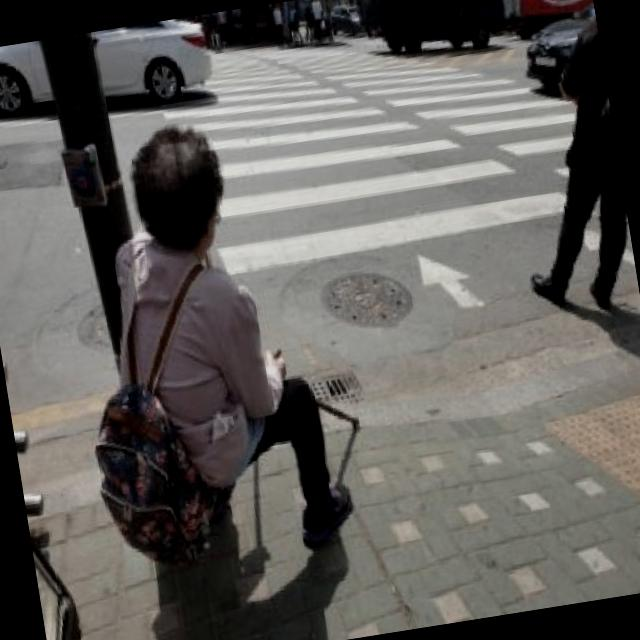Person: (87, 111, 378, 564)
